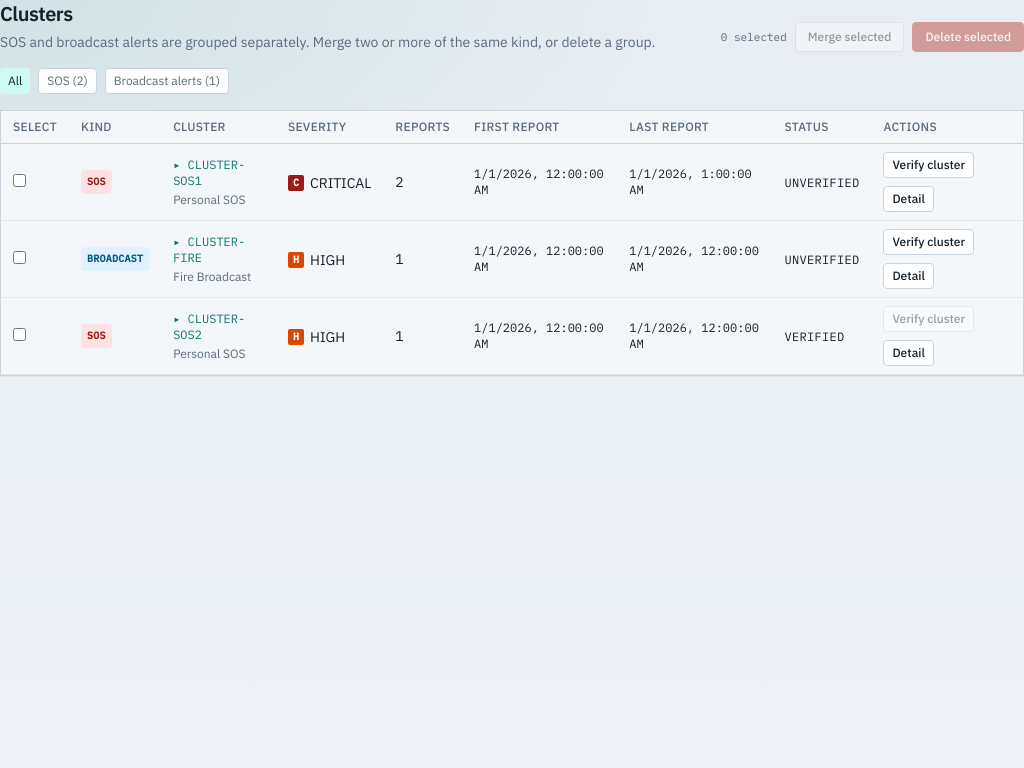
Scenario: ClustersPage kinds and bulk actions › opens a group-delete confirm for selected clusters
Click the checkbox named "select CLUSTER-SOS1": {"x": 20, "y": 180} [13, 174, 26, 187]
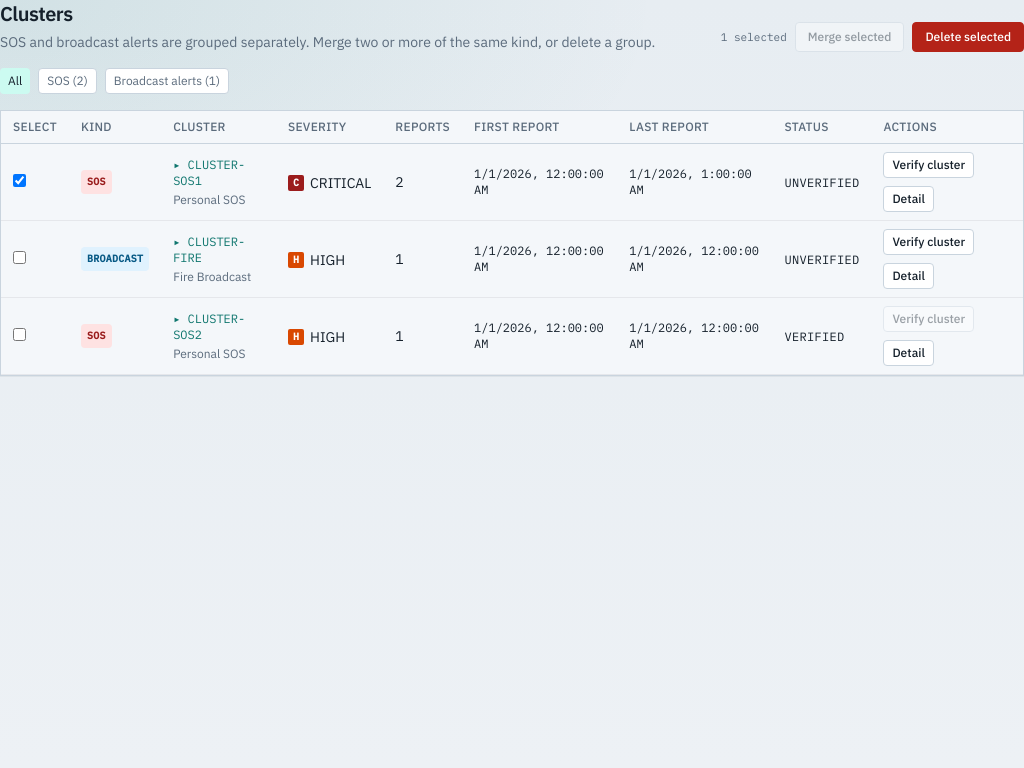
Click the checkbox named "select CLUSTER-FIRE": {"x": 20, "y": 258} [13, 251, 26, 264]
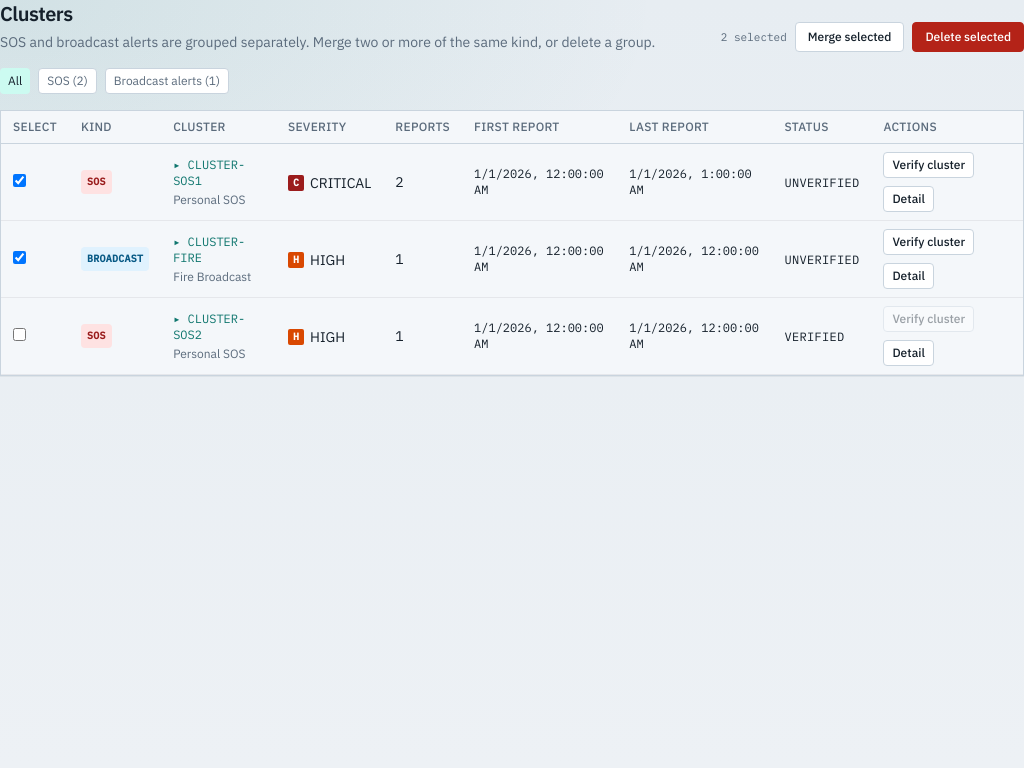
Click the button "Delete selected": {"x": 968, "y": 37} [912, 22, 1023, 52]
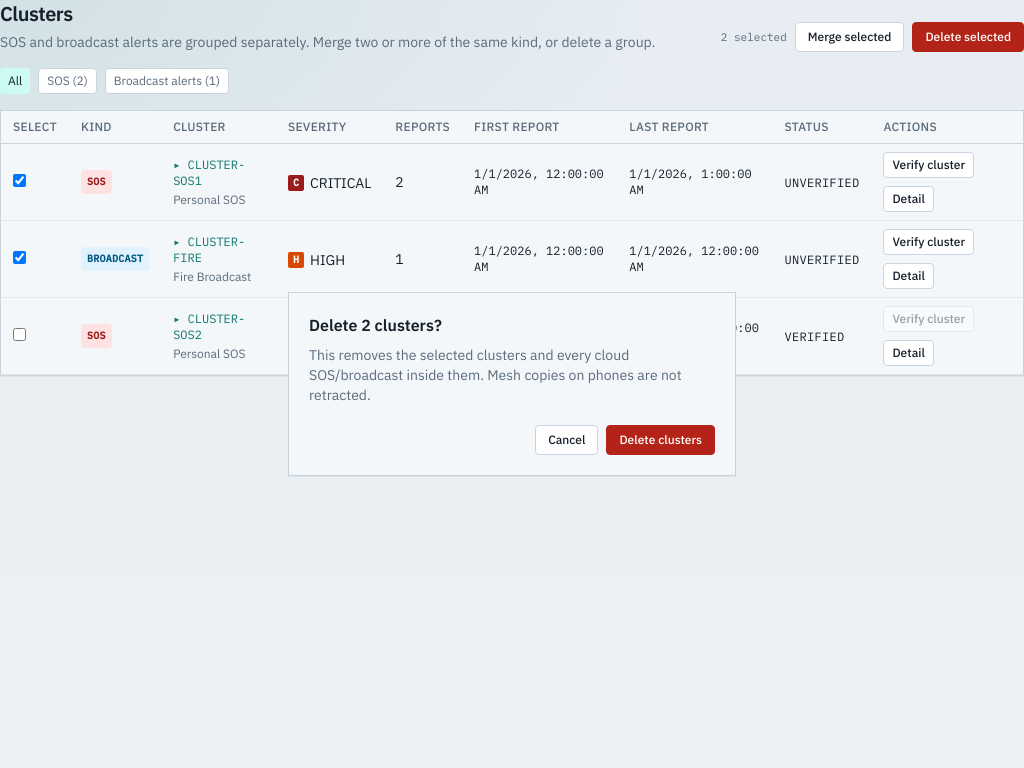
Expected: the dialog "Delete 2 clusters" is shown, [288, 292, 736, 476]
